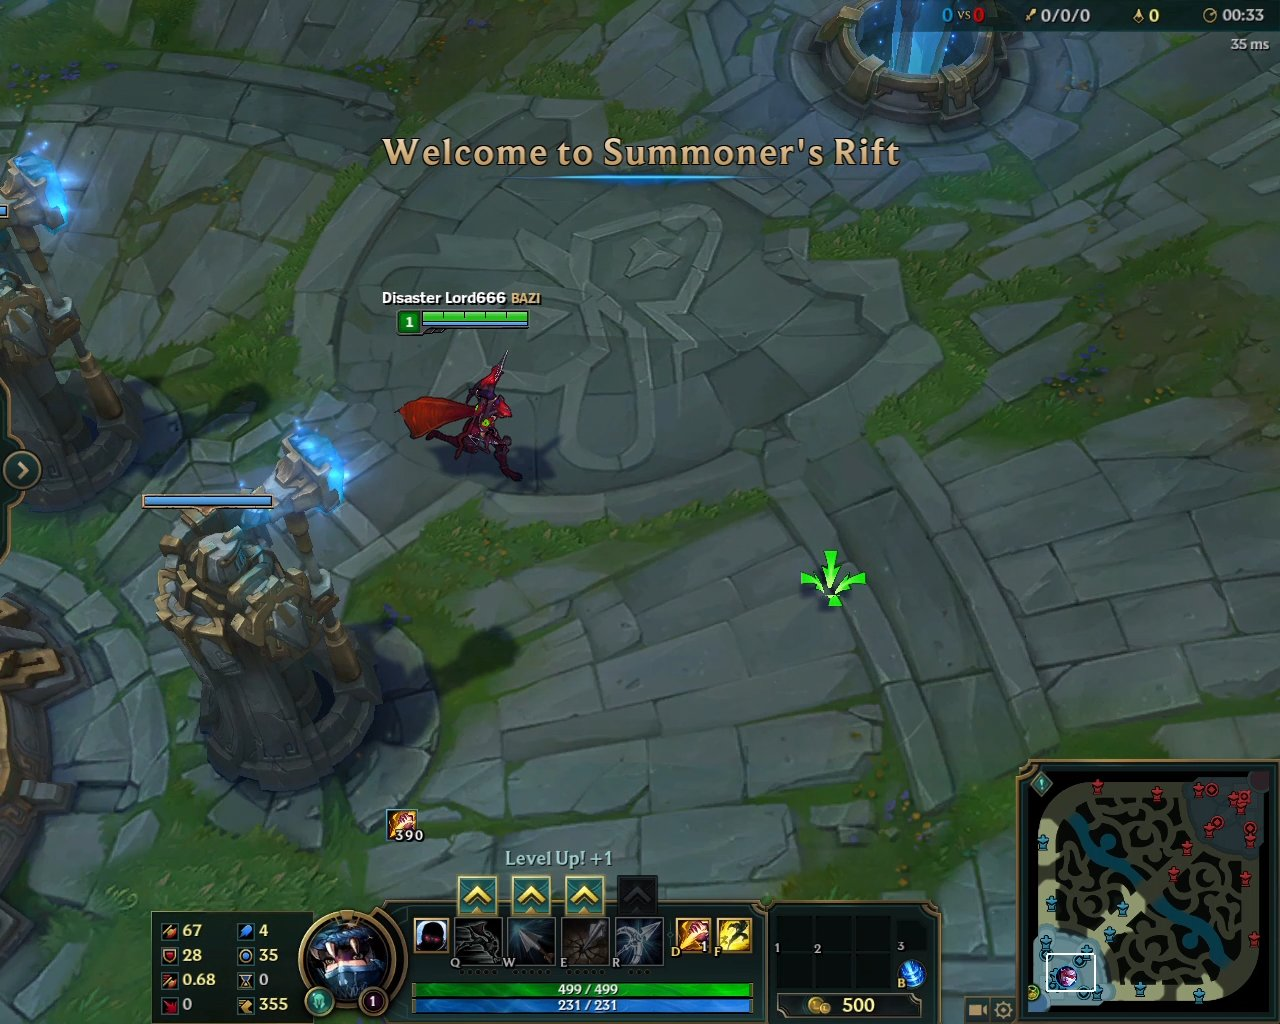Vayne: (387, 347, 527, 485)
